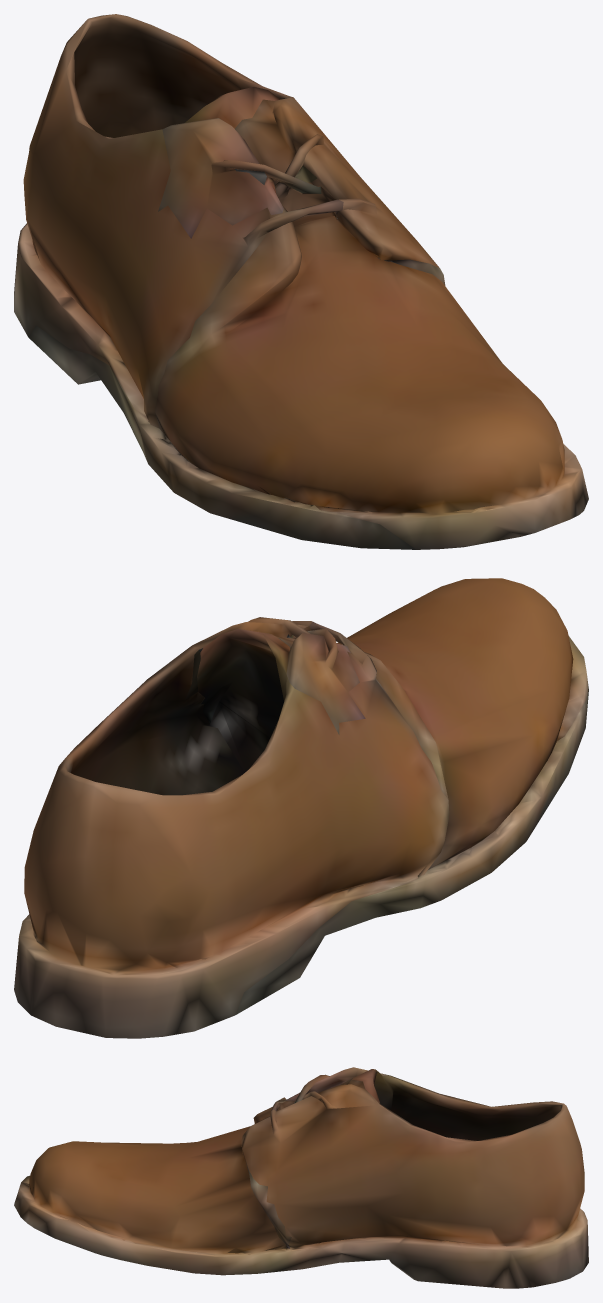
File: Timberland_Mens_Earthkeepers_Stormbuck_Lite_Plain_Toe_Oxford-medium.glb
3 renders of one model, top to bottom at view 1: azimuth 30°, elevation 25°; view 2: azimuth 150°, elevation 25°; view 3: azimuth 270°, elevation 25°, orthographic. The views are drawn at different scales.
Parts seen in each view (by area): view 1: Timberland_Mens_Earthkeepers_Stormbuck_Lite_Plain_Toe_Oxford; view 2: Timberland_Mens_Earthkeepers_Stormbuck_Lite_Plain_Toe_Oxford; view 3: Timberland_Mens_Earthkeepers_Stormbuck_Lite_Plain_Toe_Oxford.
Boxes of the visible parts, x1,y1,x2,y2 form: Timberland_Mens_Earthkeepers_Stormbuck_Lite_Plain_Toe_Oxford: (14,14,588,549); Timberland_Mens_Earthkeepers_Stormbuck_Lite_Plain_Toe_Oxford: (14,578,588,1038); Timberland_Mens_Earthkeepers_Stormbuck_Lite_Plain_Toe_Oxford: (14,1067,588,1288).
Size of the model in its own units: 0.1112 by 0.1107 by 0.3118.
Materials: 1 (1 with a texture image).
